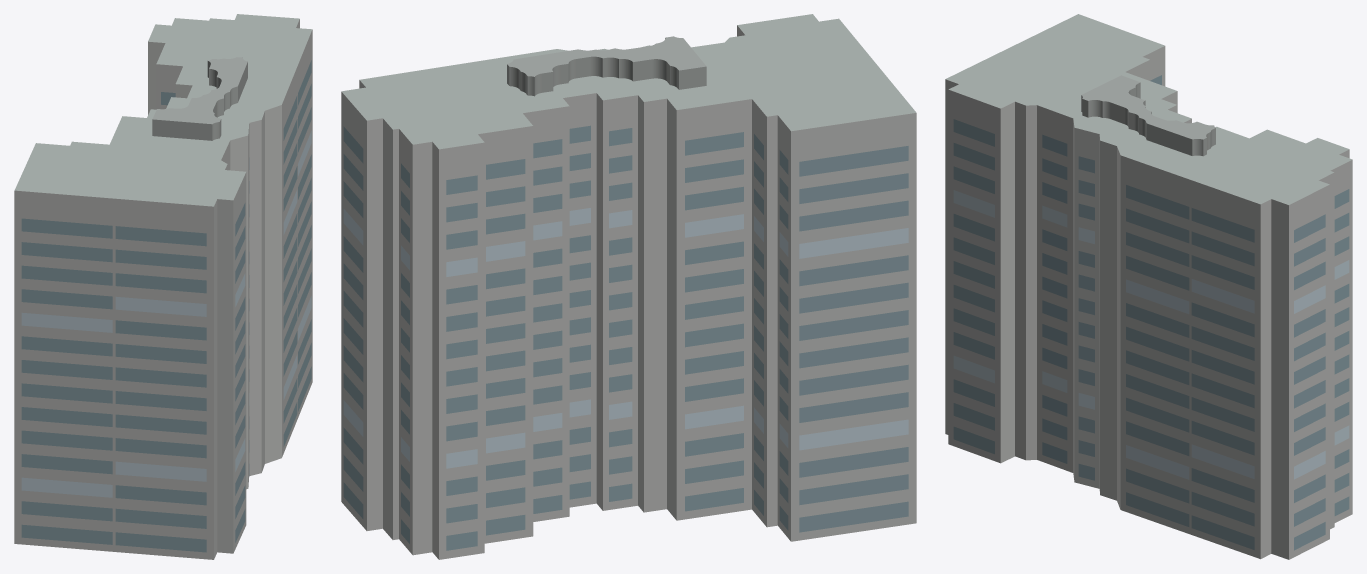
File: fallback-godeok-arteon-311.glb
3 views of the same model, side by side, from view 1: azimuth 30°, elevation 25°; view 2: azimuth 150°, elevation 25°; view 3: azimuth 270°, elevation 25° (orthographic). The views are drawn at different scales.
Visible parts, largest first — view 1: fallback-godeok-arteon-311; view 2: fallback-godeok-arteon-311; view 3: fallback-godeok-arteon-311.
Boxes of the visible parts, box(x1,y1,x2,y2) form: fallback-godeok-arteon-311: box(14, 14, 312, 559); fallback-godeok-arteon-311: box(341, 14, 916, 559); fallback-godeok-arteon-311: box(945, 14, 1352, 559).
Bounding box in the file's own units: 50.79 × 46 × 45.74.
